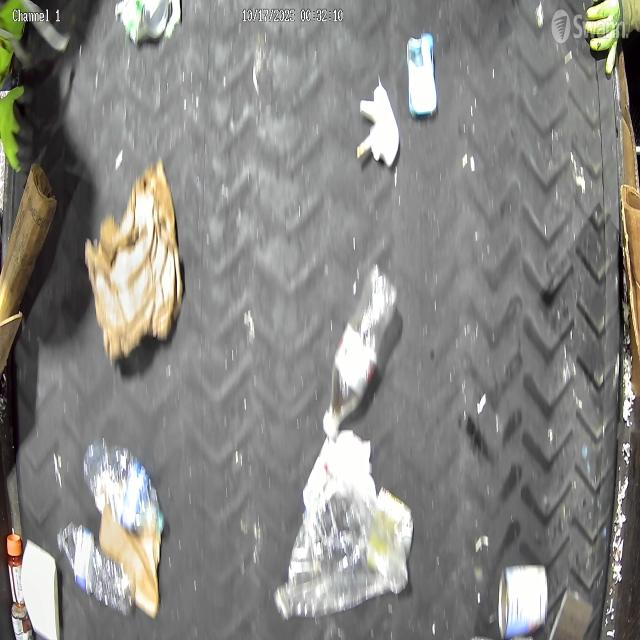can: (498, 563, 550, 638), (121, 0, 170, 44)
plastic_bottle: (322, 266, 398, 439), (54, 524, 137, 617), (83, 440, 166, 533)
